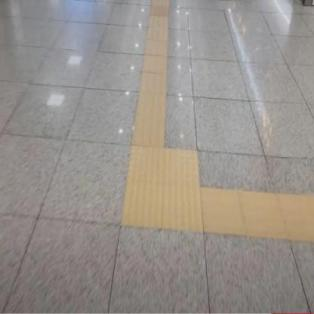Podoctatil: (108, 117, 230, 258), (204, 183, 314, 243), (130, 0, 172, 141)
